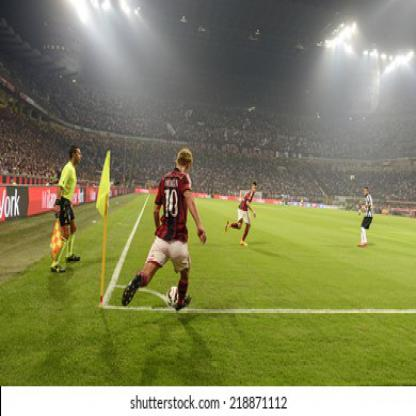corner kick: (87, 131, 217, 333)
